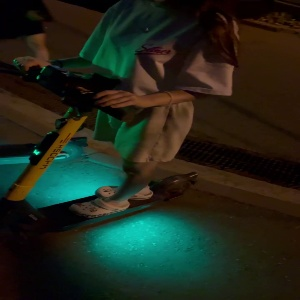human on a scooter: (1, 1, 238, 252)
